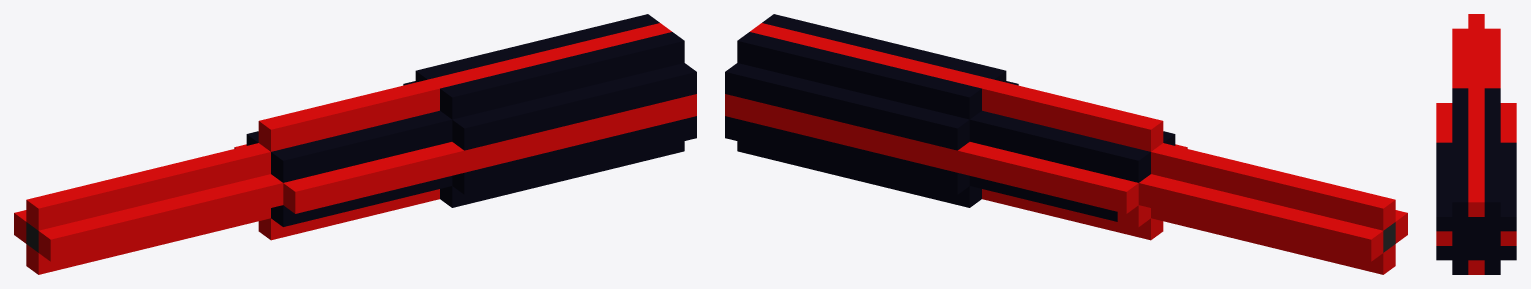
Rendered from NeonLightTankEnemy-1.obj.
The picture shows the model from 3 angles, left to right: view 1: azimuth 30°, elevation 25°; view 2: azimuth 150°, elevation 25°; view 3: azimuth 270°, elevation 25°; orthographic projection. The views are drawn at different scales.
Bounding box in the file's own units: 3 × 0.5 × 0.5.
Materials: 1 (1 with a texture image).
